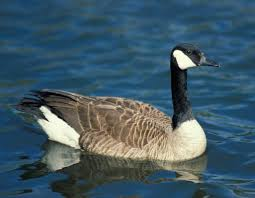goose: (8, 39, 225, 164)
